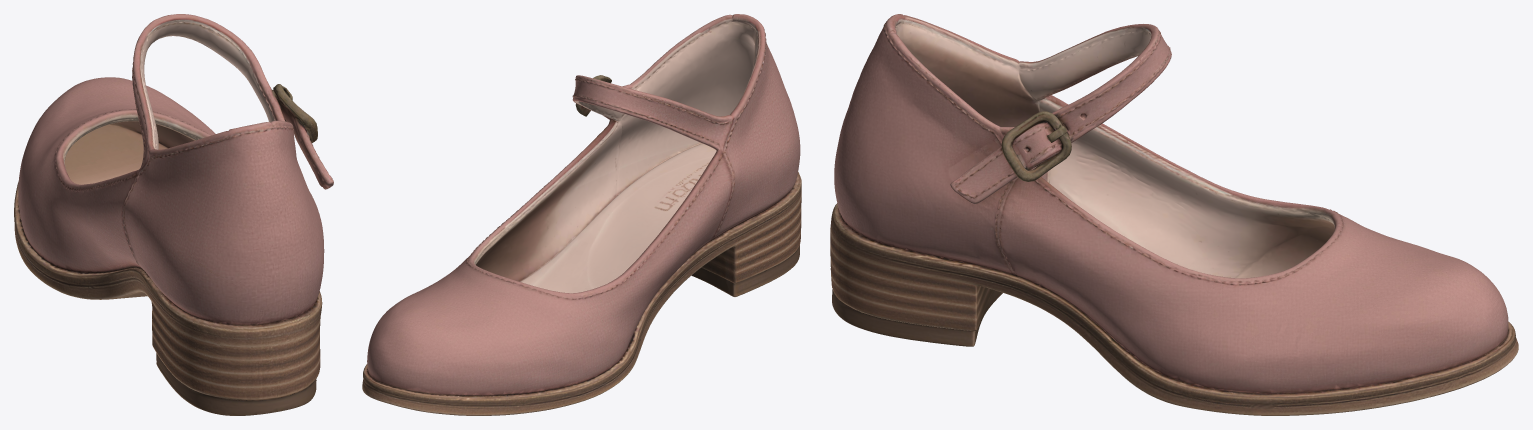
File: maryjane-higgsfield.glb
3 views of the same model, side by side, from view 1: azimuth 30°, elevation 25°; view 2: azimuth 150°, elevation 25°; view 3: azimuth 270°, elevation 25° (orthographic). The views are drawn at different scales.
Visible parts, largest first — view 1: tripo_node_3935dfa7-961d-43bd-ba6f-8f23194baaf9; view 2: tripo_node_3935dfa7-961d-43bd-ba6f-8f23194baaf9; view 3: tripo_node_3935dfa7-961d-43bd-ba6f-8f23194baaf9.
Boxes of the visible parts, <box> form: tripo_node_3935dfa7-961d-43bd-ba6f-8f23194baaf9: <box>14,14,333,415</box>; tripo_node_3935dfa7-961d-43bd-ba6f-8f23194baaf9: <box>362,14,801,415</box>; tripo_node_3935dfa7-961d-43bd-ba6f-8f23194baaf9: <box>830,14,1518,415</box>.
Bounding box in the file's own units: 0.4448 × 0.4819 × 0.9802.
Materials: 1 (1 with a texture image).
